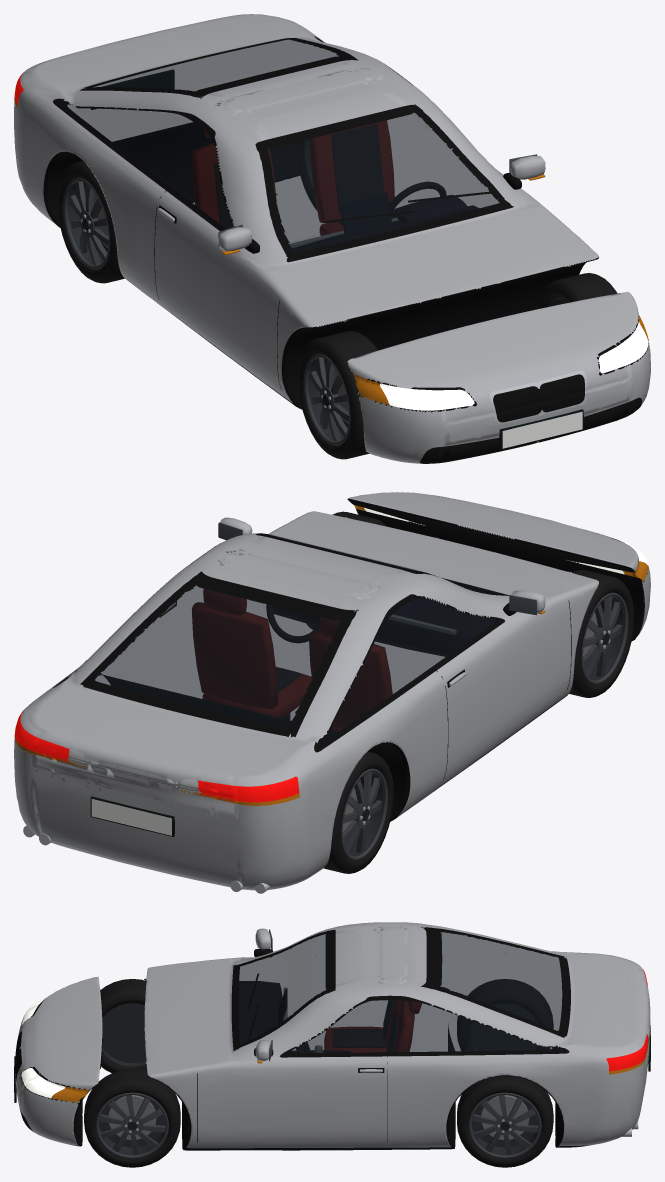
File: car_coupe.glb
The picture shows the model from 3 angles, top to bottom: view 1: azimuth 30°, elevation 25°; view 2: azimuth 150°, elevation 25°; view 3: azimuth 270°, elevation 25°; orthographic projection. The views are drawn at different scales.
Visible parts, largest first — view 1: body, glass, wheel_FR_mesh, wheel_RR_mesh, headlight, wheel_FL_mesh, plate, wheel_RL_mesh, indicator_R; view 2: body, glass, wheel_FR_mesh, wheel_RR_mesh, taillight, plate, indicator_R; view 3: body, glass, wheel_FL_mesh, wheel_RL_mesh, wheel_RR_mesh, wheel_FR_mesh, headlight, taillight, indicator_L.
Boxes of the visible parts, x1,y1,x2,y2 form: body: [14, 14, 650, 463]; glass: [67, 39, 499, 252]; wheel_FR_mesh: [298, 331, 378, 459]; wheel_RR_mesh: [57, 161, 124, 283]; headlight: [380, 321, 648, 410]; wheel_FL_mesh: [537, 273, 617, 309]; plate: [502, 411, 582, 448]; wheel_RL_mesh: [296, 139, 316, 209]; indicator_R: [14, 97, 388, 404]; body: [14, 492, 650, 893]; glass: [68, 534, 498, 739]; wheel_FR_mesh: [569, 570, 634, 697]; wheel_RR_mesh: [323, 751, 393, 873]; taillight: [15, 710, 299, 802]; plate: [91, 799, 171, 835]; indicator_R: [181, 561, 648, 805]; body: [14, 922, 650, 1150]; glass: [238, 932, 562, 1053]; wheel_FL_mesh: [84, 1069, 180, 1167]; wheel_RL_mesh: [457, 1076, 553, 1167]; wheel_RR_mesh: [457, 979, 553, 1051]; wheel_FR_mesh: [100, 979, 146, 1072]; headlight: [21, 998, 65, 1098]; taillight: [606, 969, 648, 1071]; indicator_L: [51, 1041, 648, 1102].
Size of the model in its own units: 2.1 by 1.3 by 4.61.
